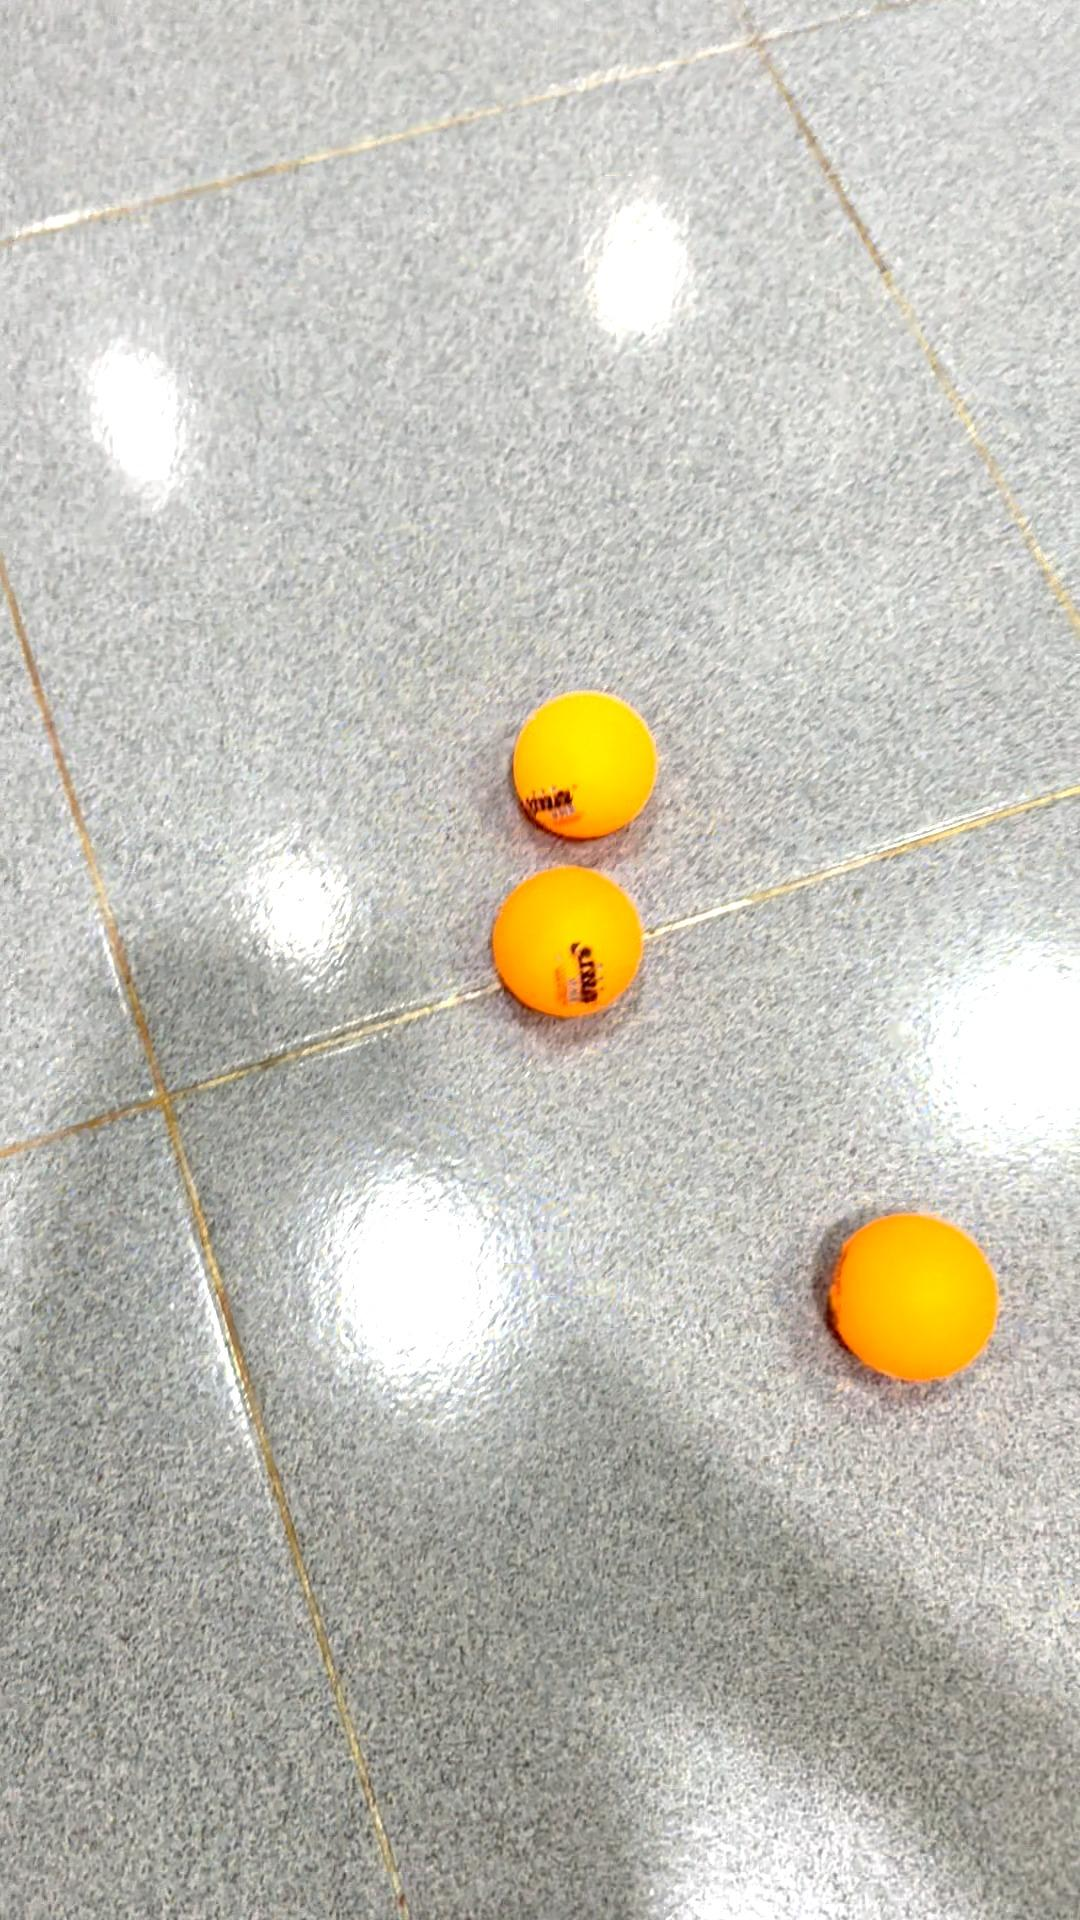oball: (818, 1204, 1004, 1395), (488, 865, 653, 1029), (501, 684, 669, 844)
